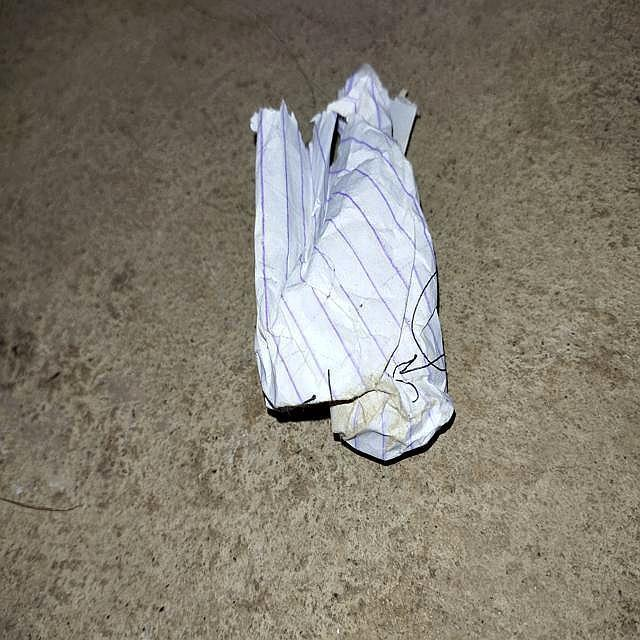Biodegradable: (253, 67, 449, 461)
